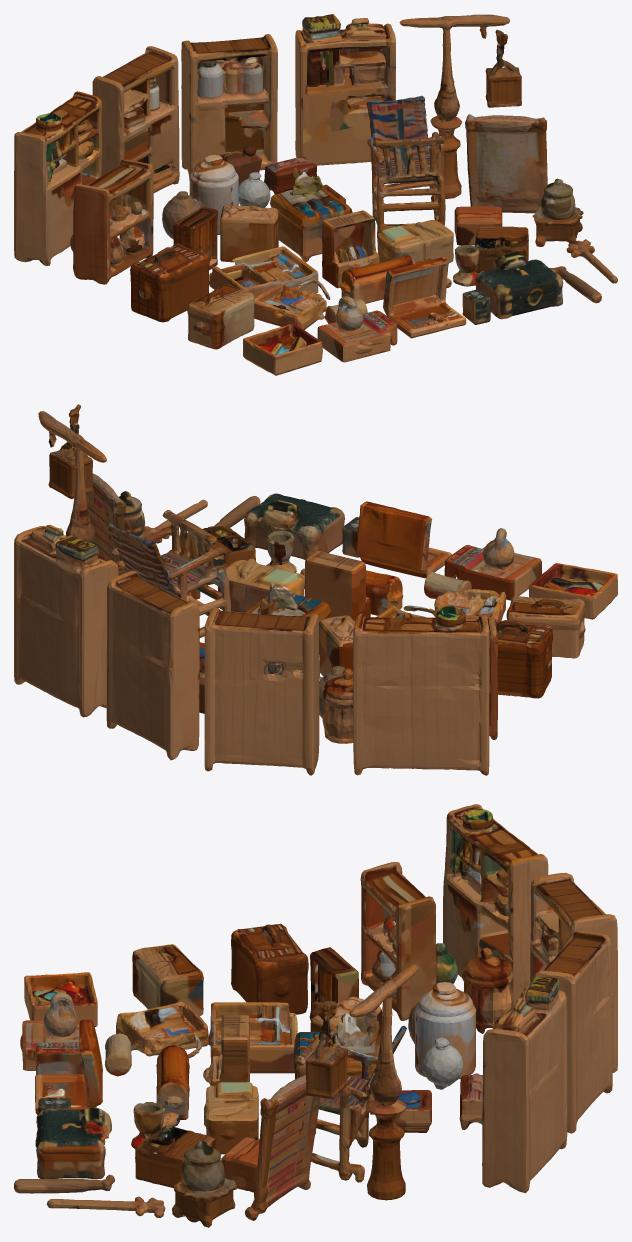
File: sanctuary storage.glb
3 renders of one model, top to bottom at view 1: azimuth 30°, elevation 25°; view 2: azimuth 150°, elevation 25°; view 3: azimuth 270°, elevation 25°, orthographic. The views are drawn at different scales.
Visible parts, largest first — view 1: tmpyiiedgxp; view 2: tmpyiiedgxp; view 3: tmpyiiedgxp.
Boxes of the visible parts, x1,y1,x2,y2 form: tmpyiiedgxp: [14, 14, 617, 375]; tmpyiiedgxp: [14, 404, 617, 775]; tmpyiiedgxp: [14, 804, 617, 1227].
Bounding box in the file's own units: 1.99 × 0.7385 × 1.87.
Materials: 1 (1 with a texture image).
